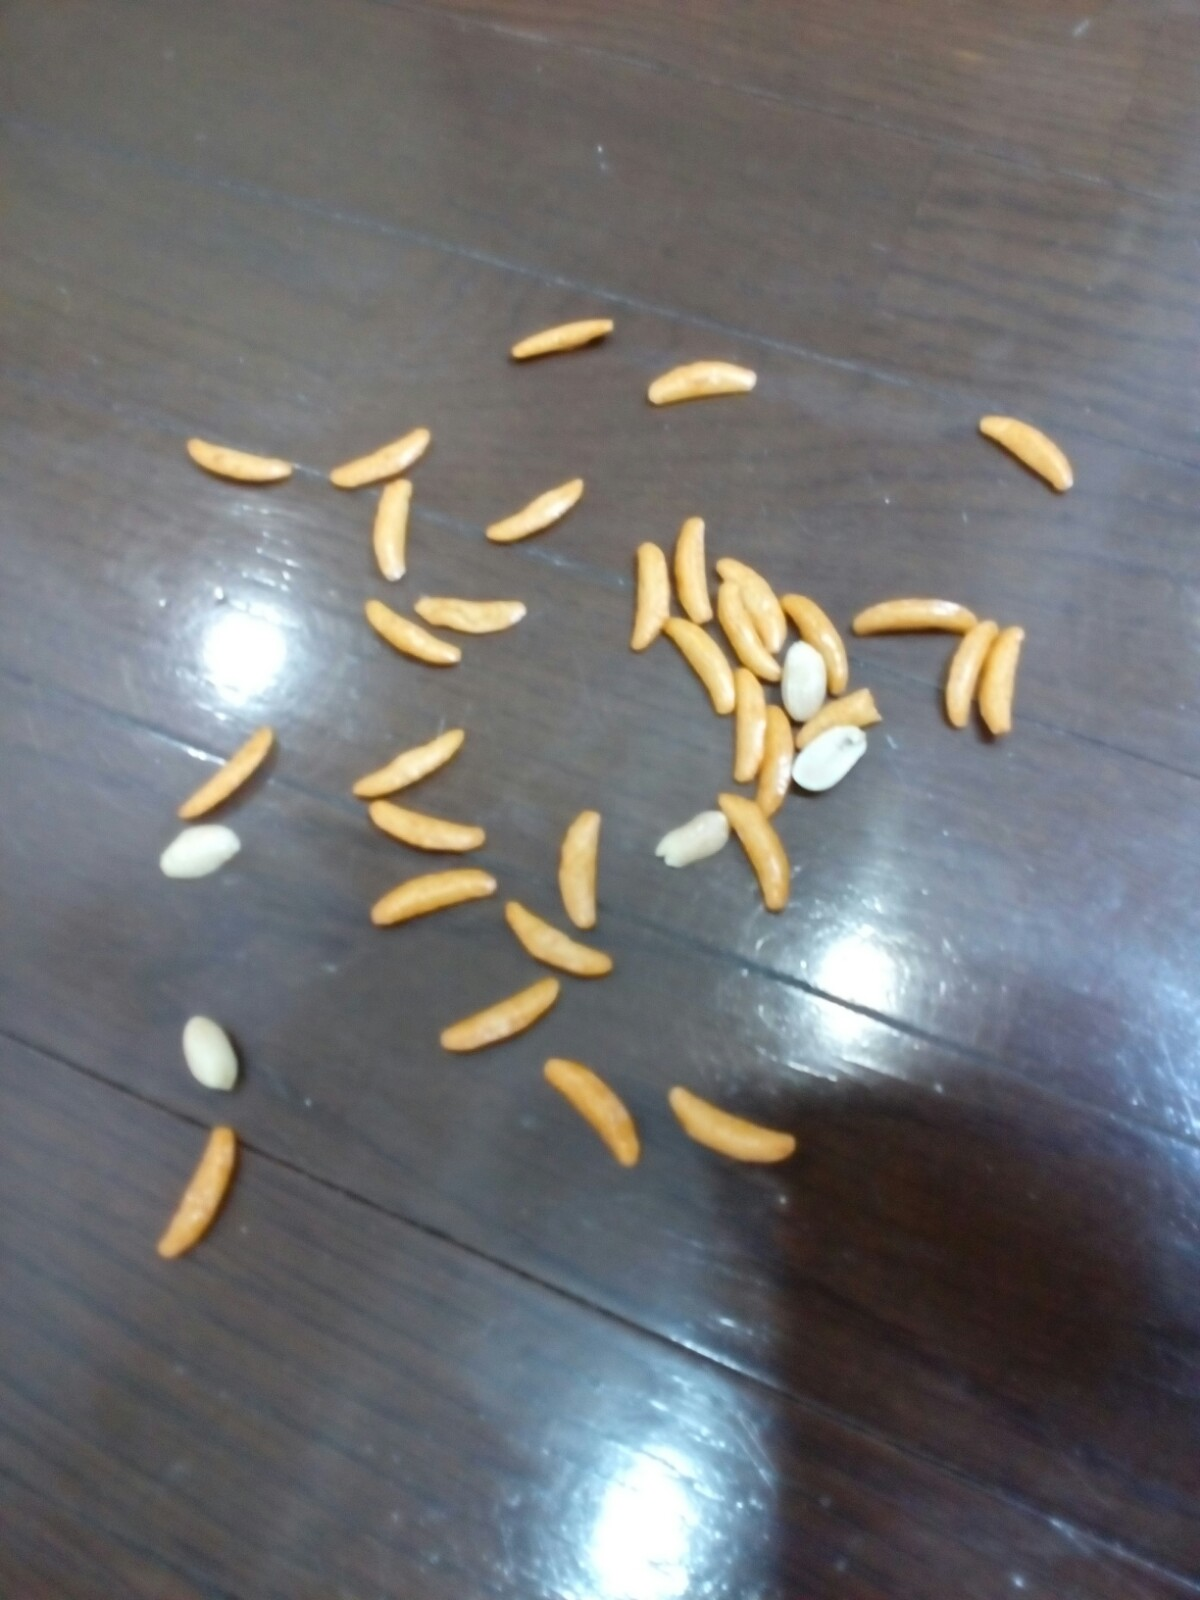peanut: (652, 803, 745, 884), (788, 716, 874, 803), (184, 1008, 258, 1107), (158, 813, 250, 891), (779, 636, 833, 723)
